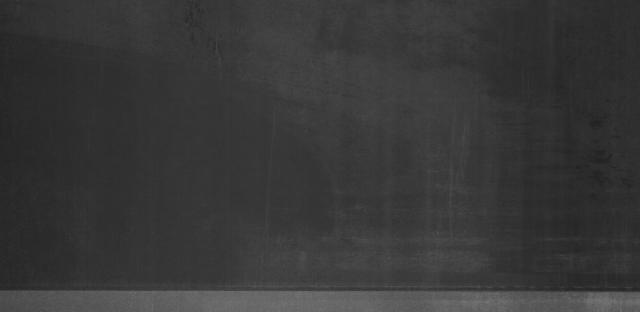welding_line: (1, 277, 640, 300)
